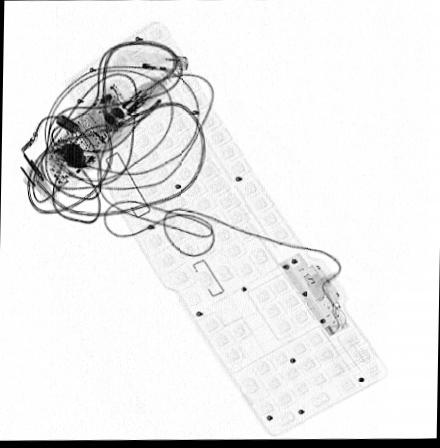Lighter: (107, 48, 188, 73)
